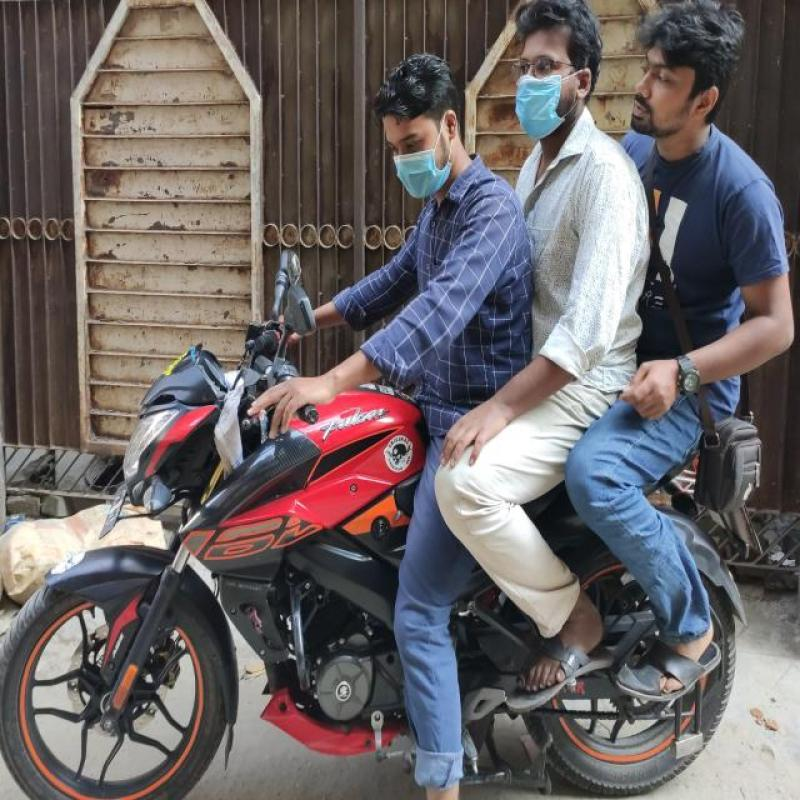nohelmet: (618, 0, 762, 138), (366, 49, 484, 215), (501, 1, 595, 145)
